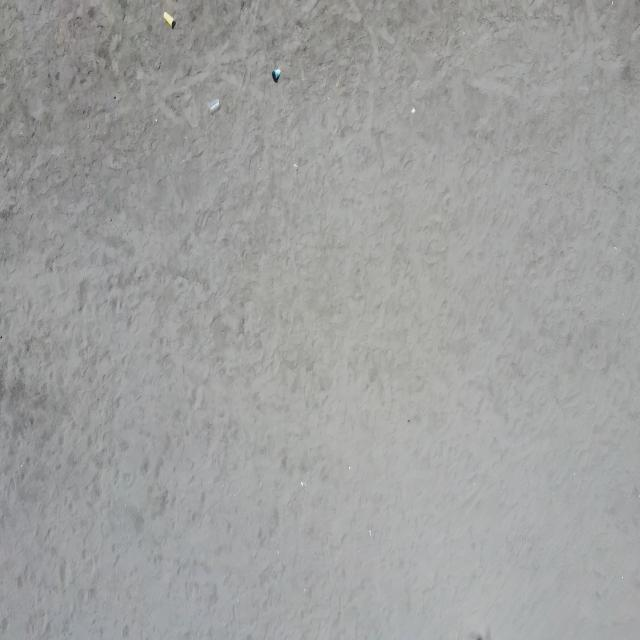takeaway-cup: (208, 98, 221, 115), (163, 11, 174, 29), (272, 68, 281, 80)
